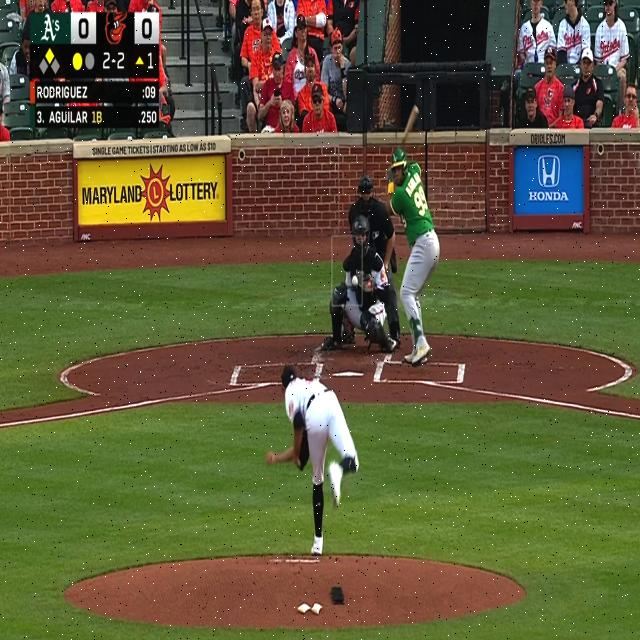baseball: (352, 276, 358, 286)
